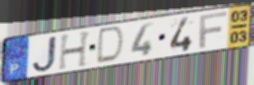4: (169, 15, 195, 53), (129, 22, 155, 58)
D: (95, 25, 127, 66)
F: (198, 10, 228, 50)
H: (57, 29, 94, 72)
J: (31, 34, 59, 74)
